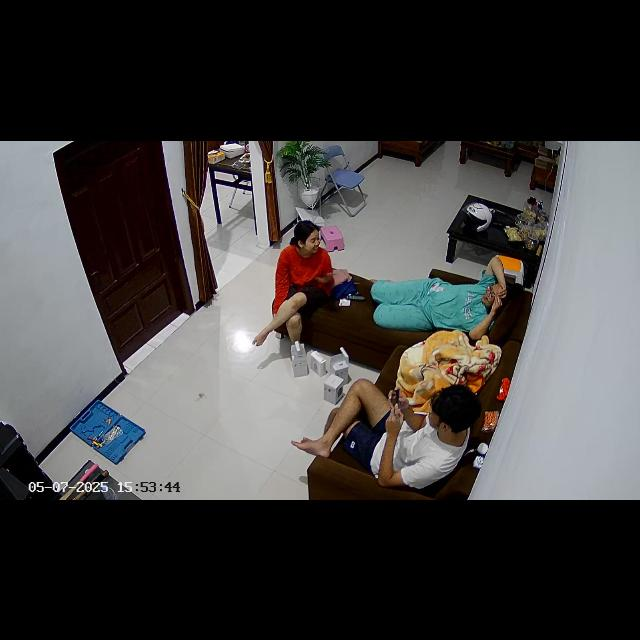rokok: (414, 409, 428, 417)
